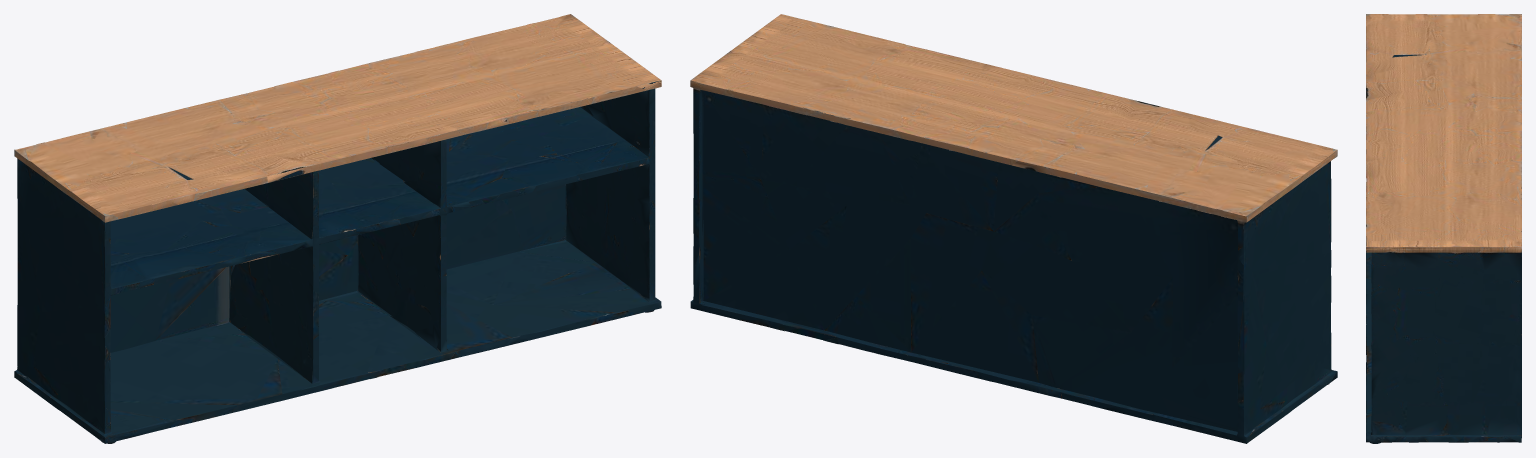
3 renders of one model, left to right at view 1: azimuth 30°, elevation 25°; view 2: azimuth 150°, elevation 25°; view 3: azimuth 270°, elevation 25°, orthographic. The views are drawn at different scales.
Visible parts, largest first — view 1: Mesh_0; view 2: Mesh_0; view 3: Mesh_0.
Part boxes in pixels (x1,y1,x2,y2): Mesh_0: (14,14,661,443); Mesh_0: (690,14,1337,443); Mesh_0: (1366,14,1521,443).
Size of the model in its own units: 1.64 by 0.65 by 0.4633.
1 material, 1 textured.
